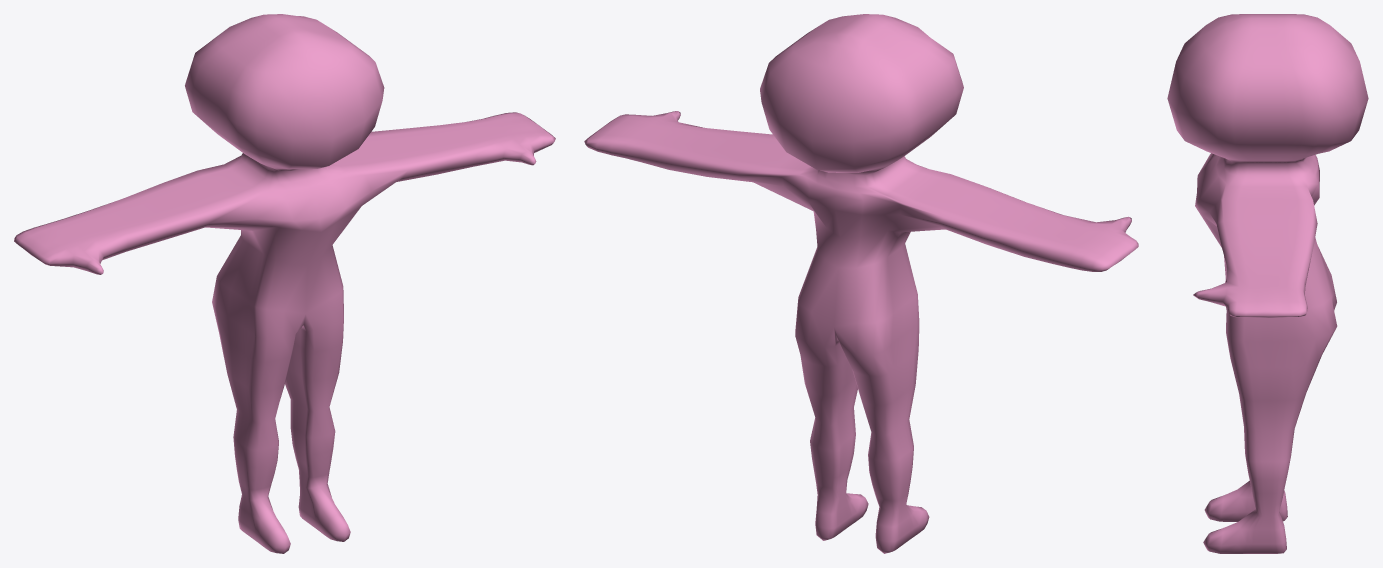
Rendered from karakter 2(kadın).fbx.
The picture shows the model from 3 angles, left to right: view 1: azimuth 30°, elevation 25°; view 2: azimuth 150°, elevation 25°; view 3: azimuth 270°, elevation 25°; orthographic projection. The views are drawn at different scales.
Visible parts, largest first — view 1: Cube; view 2: Cube; view 3: Cube.
Boxes of the visible parts, x1=… form: Cube: x1=14, y1=14, x2=555, y2=553; Cube: x1=584, y1=14, x2=1138, y2=553; Cube: x1=1167, y1=14, x2=1368, y2=553.
Size of the model in its own units: 430 by 405 by 142.
